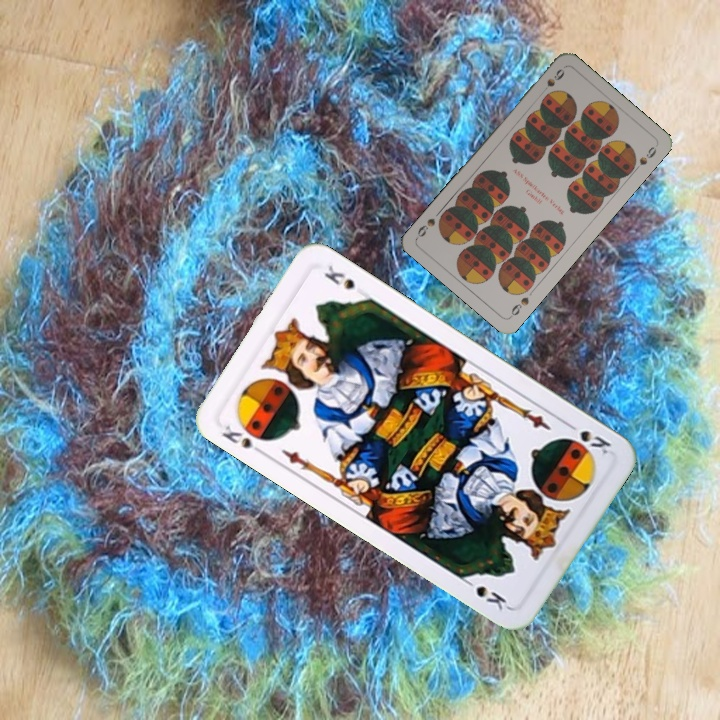S9: (538, 64, 567, 95), (506, 293, 532, 320)
SK: (561, 418, 614, 458), (217, 421, 268, 458)
